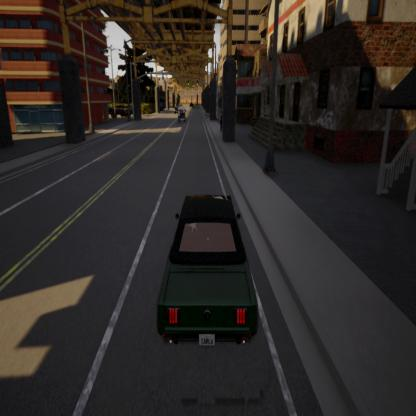Cars: (141, 186, 268, 357), (177, 105, 187, 122), (173, 104, 181, 115)
Pedestrian: (216, 111, 225, 133)
